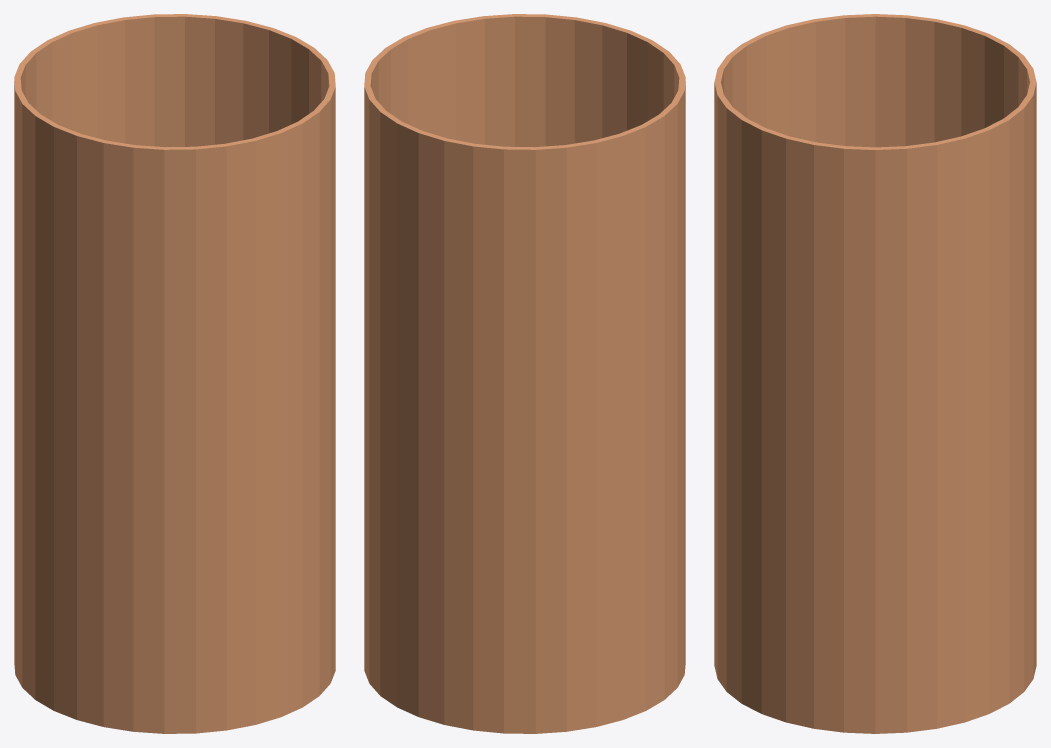
Rendered from orange-pipe.glb.
3 views of the same model, side by side, from view 1: azimuth 30°, elevation 25°; view 2: azimuth 150°, elevation 25°; view 3: azimuth 270°, elevation 25° (orthographic).
Parts seen in each view (by area): view 1: Cylinder; view 2: Cylinder; view 3: Cylinder.
Part boxes in pixels (box(x1,y1,x2,y2)): Cylinder: box(14, 14, 335, 733); Cylinder: box(364, 14, 685, 733); Cylinder: box(714, 14, 1036, 733).
Size of the model in its own units: 1 by 2 by 1.
